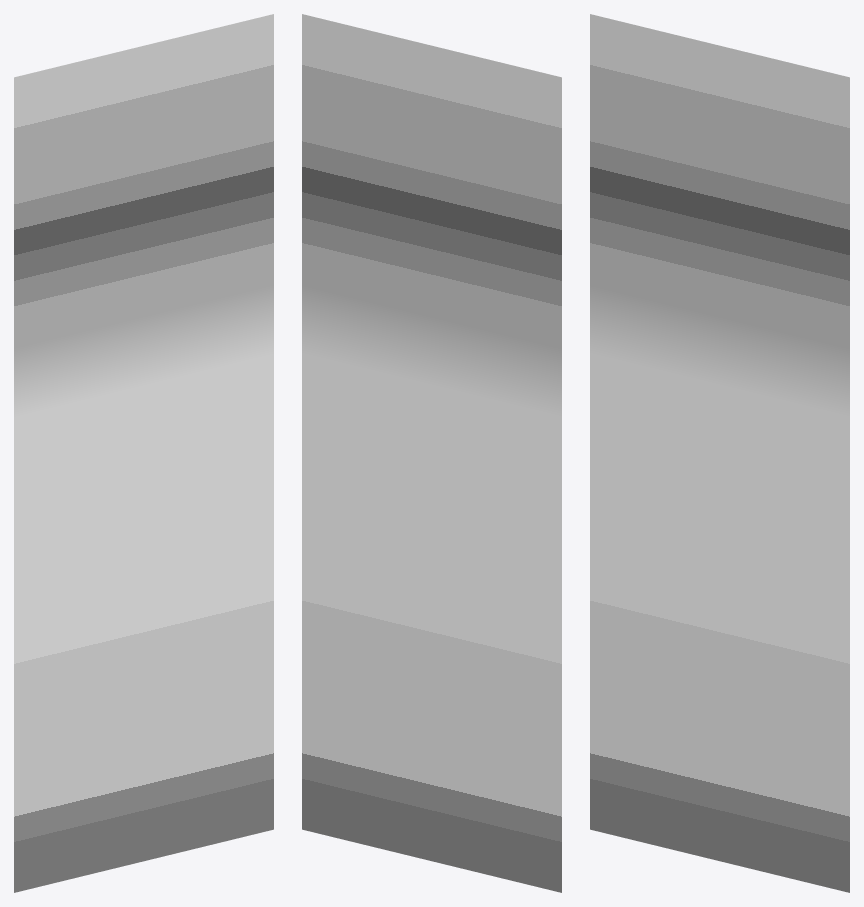
3 views of the same model, side by side, from view 1: azimuth 30°, elevation 25°; view 2: azimuth 150°, elevation 25°; view 3: azimuth 330°, elevation 25° (orthographic).
Size of the model in its own units: 1 by 3 by 0.
1 material, 1 textured.
